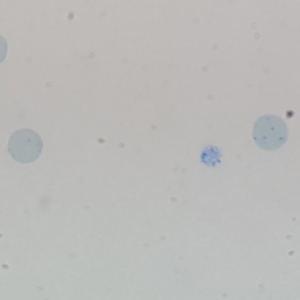punctate reticulocyte: (250, 113, 290, 153), (5, 127, 45, 165)
